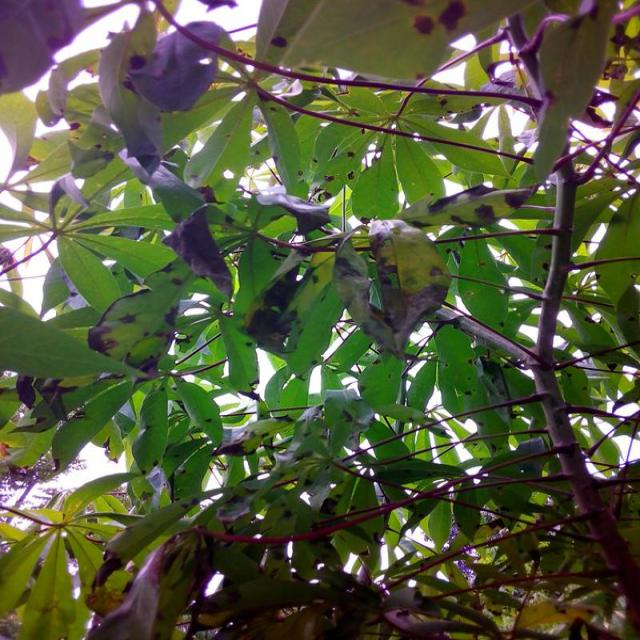cassava leaf: (2, 0, 640, 638), (333, 216, 453, 360)
